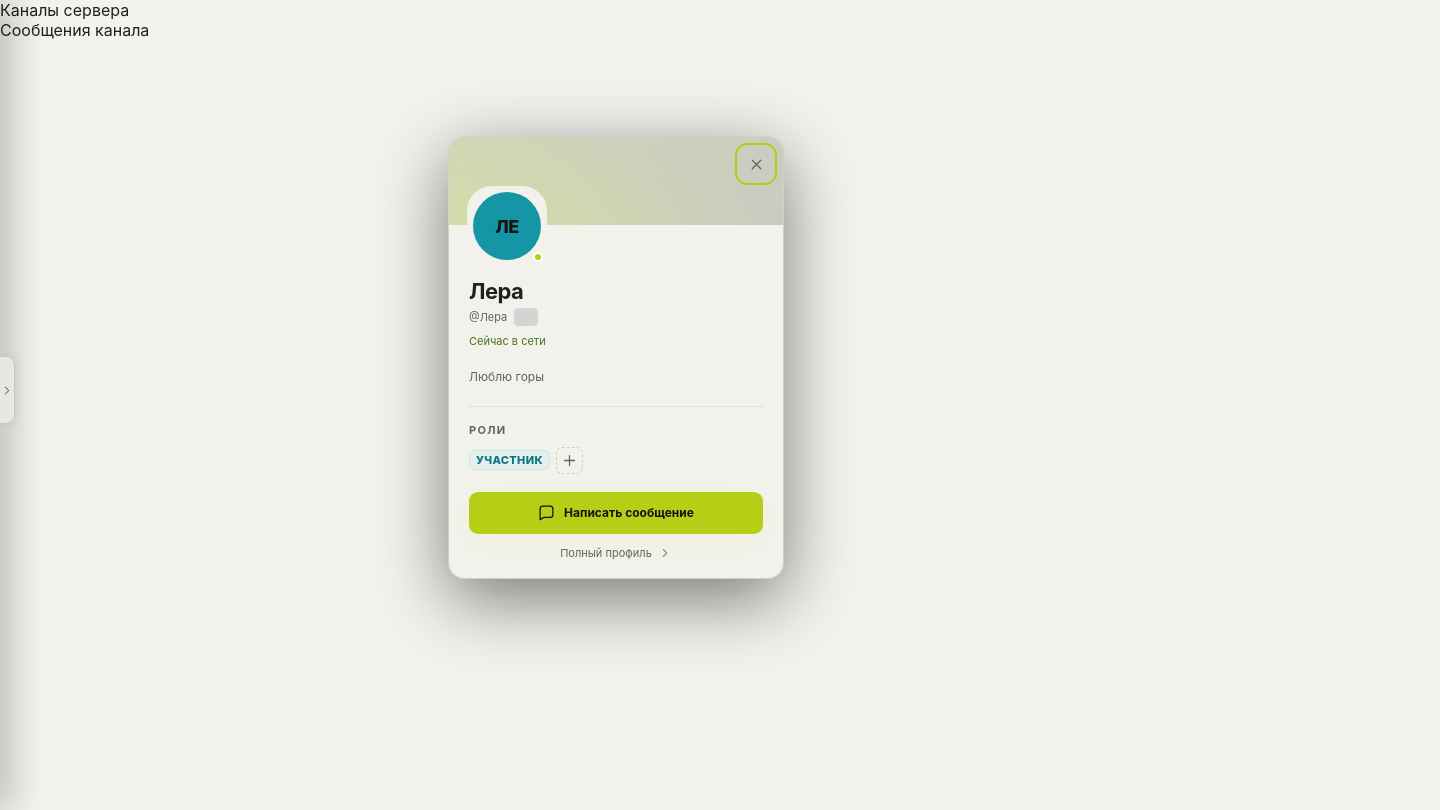
Test: keeps a created role available when assigning it fails, so retry does not create duplicates
Click the button named "Добавить роль" at [569, 460], box x1=556 y1=447 x2=583 y2=474
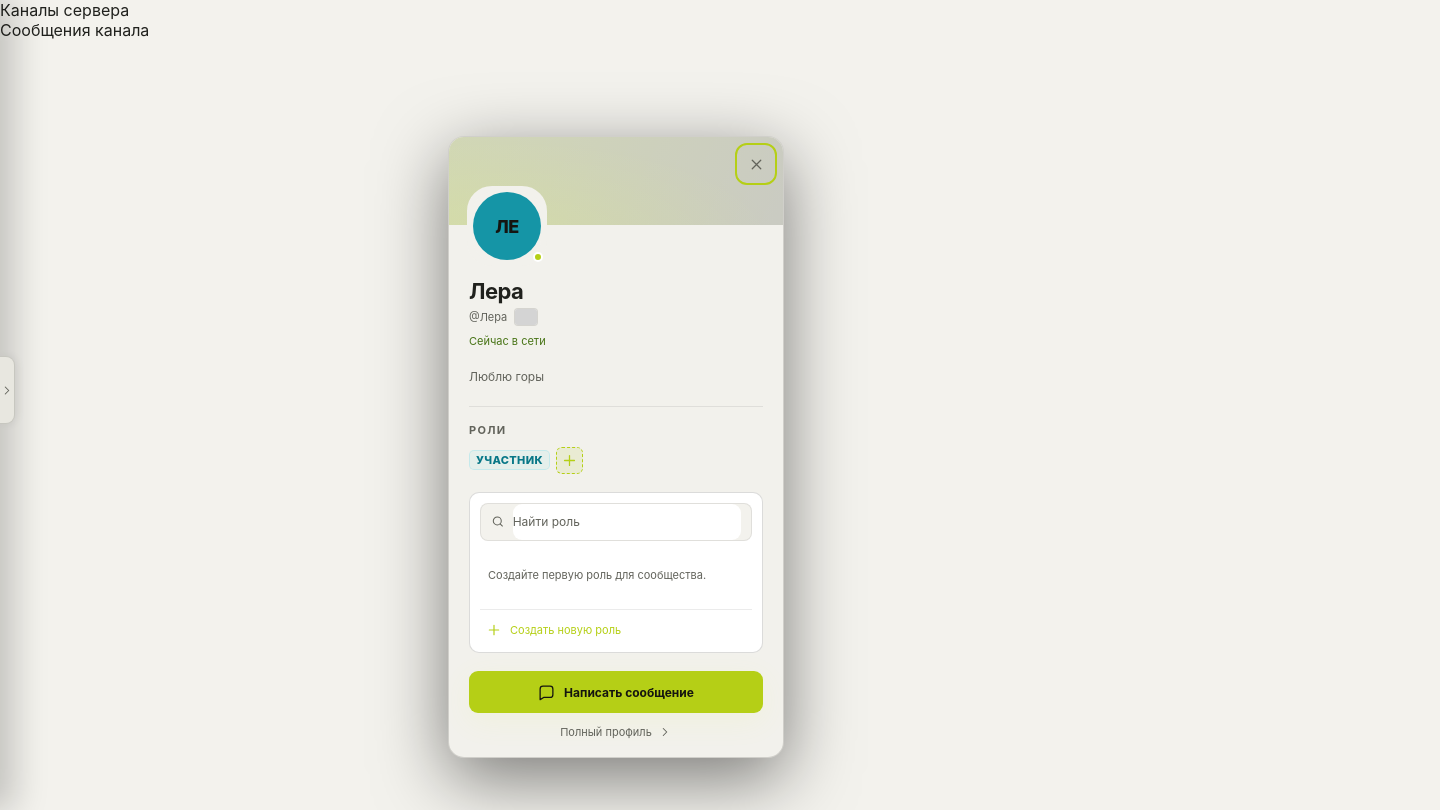
Click the button "Создать новую роль" at [616, 626], box x1=480 y1=609 x2=752 y2=642
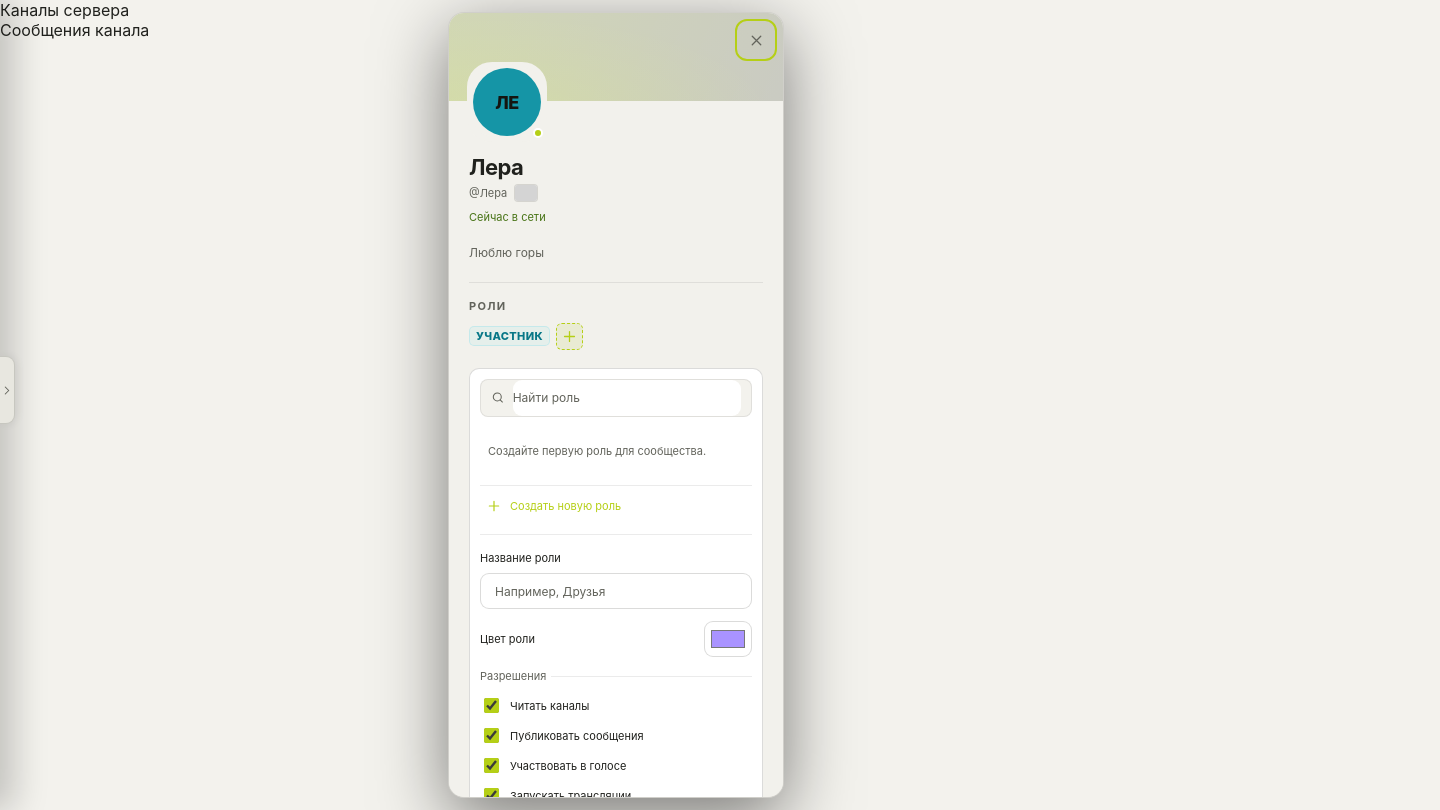
Type "Друзья" into the field labelled "Название роли" at [616, 591], box x1=480 y1=573 x2=752 y2=609
(page scrolled)
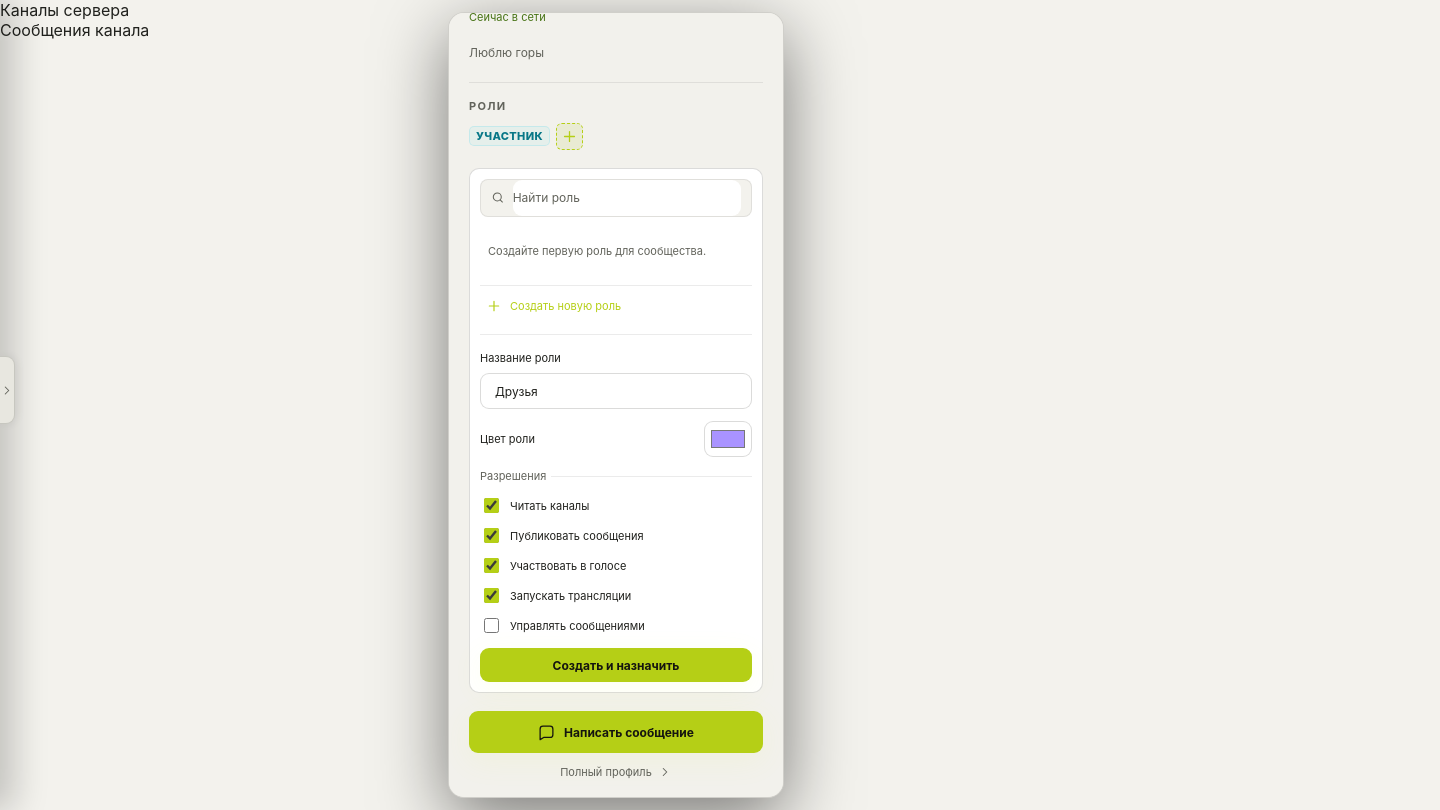
Click the button "Создать и назначить" at [616, 665], box x1=480 y1=648 x2=752 y2=682
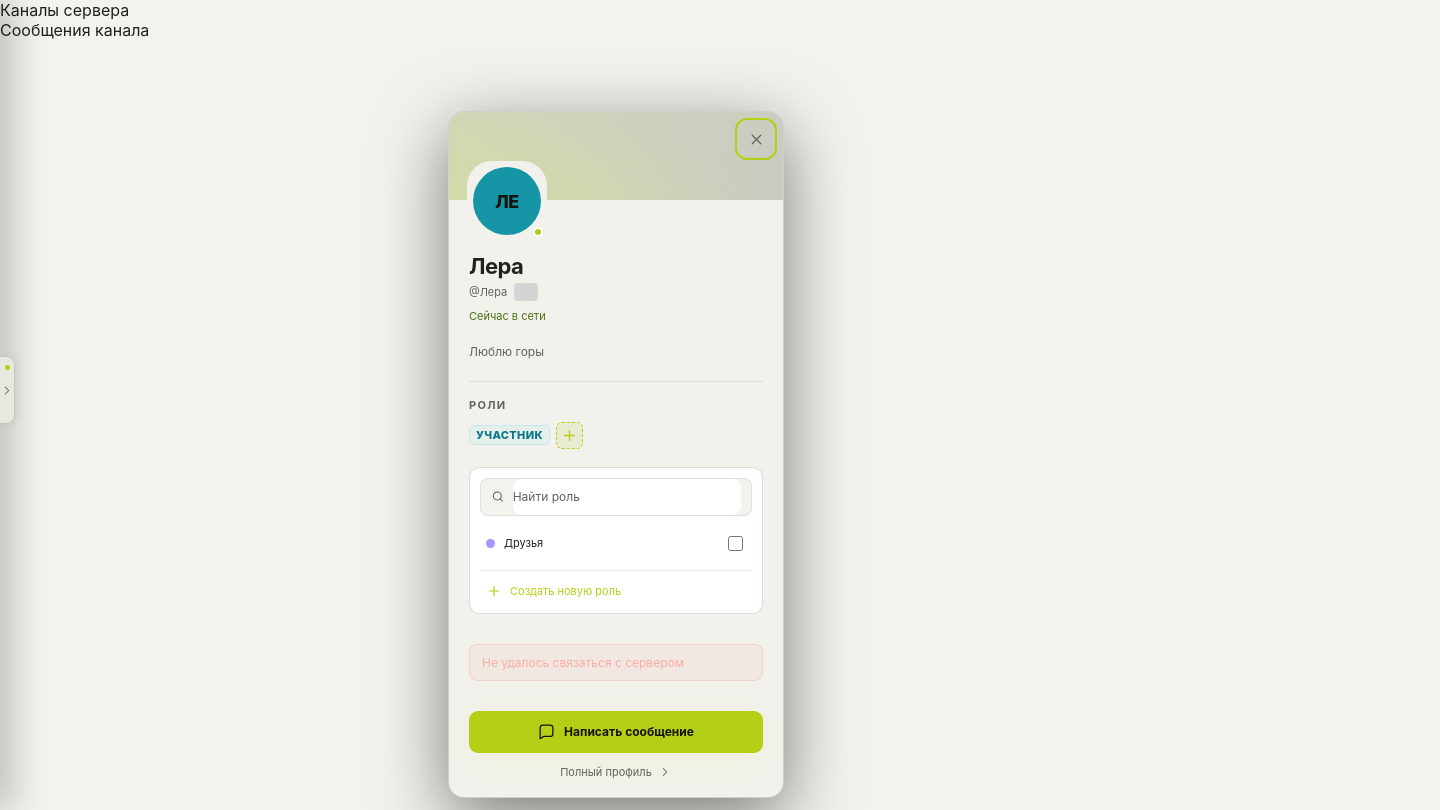
Expected: the text "Не удалось связаться с сервером" is shown, x1=469 y1=644 x2=763 y2=681
Expected: the checkbox named "Назначить роль Друзья" is shown, x1=728 y1=536 x2=743 y2=551
Expected: the button "Создать и назначить" is gone
